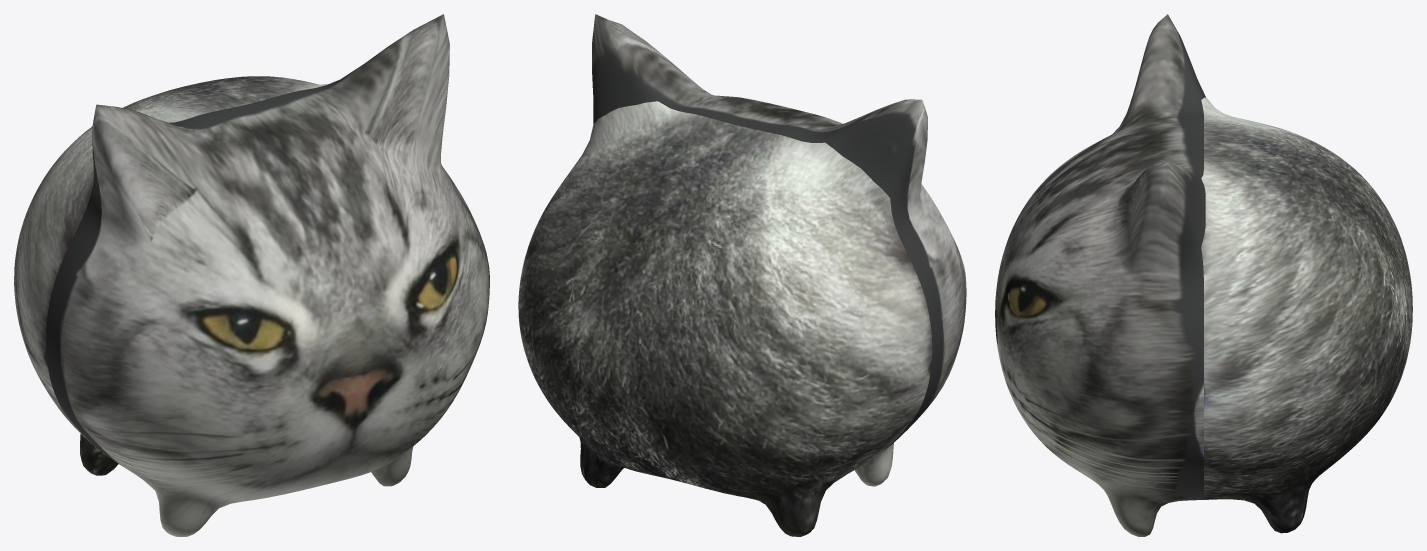
The picture shows the model from 3 angles, left to right: view 1: azimuth 30°, elevation 25°; view 2: azimuth 150°, elevation 25°; view 3: azimuth 270°, elevation 25°; orthographic projection. The views are drawn at different scales.
Visible parts, largest first — view 1: pCube1; view 2: pCube1; view 3: pCube1.
Boxes of the visible parts, left/top/right/bottom form: pCube1: left=14, top=14, right=489, bottom=536; pCube1: left=518, top=14, right=966, bottom=536; pCube1: left=995, top=14, right=1412, bottom=536.
Bounding box in the file's own units: 6.55 × 6.8 × 6.38.
